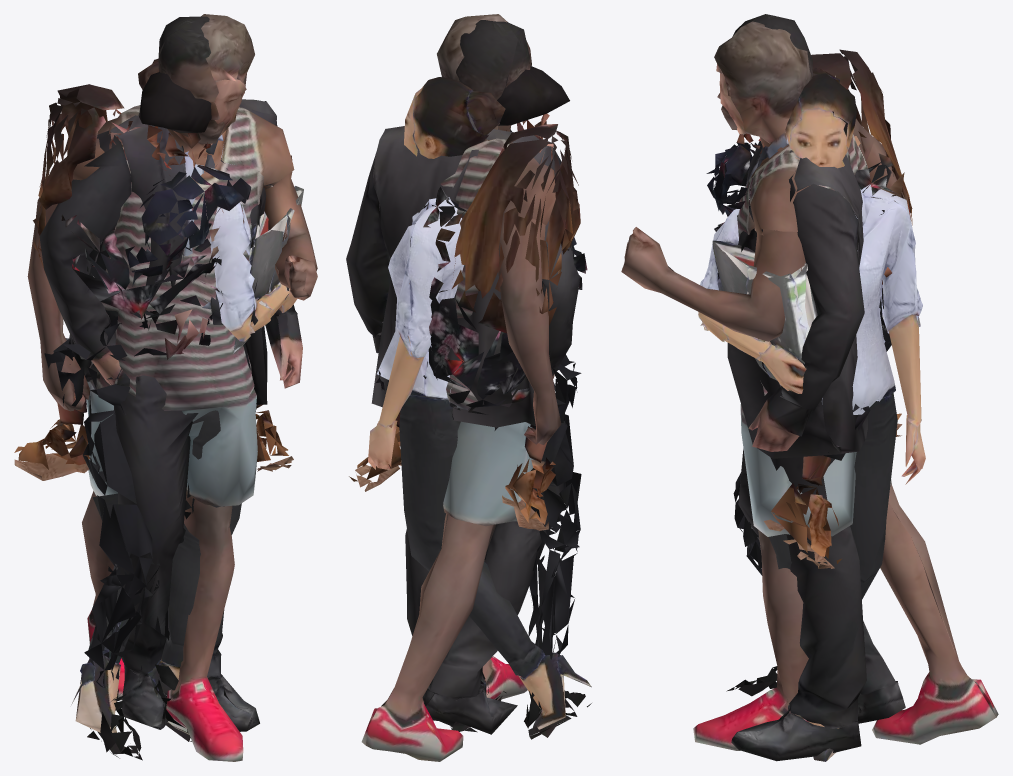
File: people_lo.glb
3 renders of one model, left to right at view 1: azimuth 30°, elevation 25°; view 2: azimuth 150°, elevation 25°; view 3: azimuth 270°, elevation 25°, orthographic. The views are drawn at different scales.
Parts seen in each view (by area): view 1: Object_2.001, rp_fabienne_percy_posed_001_200k, rp_dennis_posed_004_100k, Object_3; view 2: rp_fabienne_percy_posed_001_200k, Object_2.001, rp_dennis_posed_004_100k, Object_3; view 3: rp_dennis_posed_004_100k, Object_2.001, Object_3, rp_fabienne_percy_posed_001_200k.
Part boxes in pixels (left/top/right/bottom): Object_2.001: left=27, top=16, right=317, bottom=761; rp_fabienne_percy_posed_001_200k: left=14, top=72, right=293, bottom=760; rp_dennis_posed_004_100k: left=39, top=14, right=302, bottom=731; Object_3: left=71, top=59, right=303, bottom=732; rp_fabienne_percy_posed_001_200k: left=349, top=66, right=591, bottom=739; Object_2.001: left=361, top=20, right=561, bottom=761; rp_dennis_posed_004_100k: left=346, top=14, right=580, bottom=734; Object_3: left=368, top=77, right=591, bottom=729; rp_dennis_posed_004_100k: left=714, top=21, right=905, bottom=761; Object_2.001: left=621, top=14, right=998, bottom=750; Object_3: left=698, top=67, right=925, bottom=761; rp_fabienne_percy_posed_001_200k: left=706, top=49, right=912, bottom=696.
Size of the model in its own units: 0.639 by 1.82 by 0.8559.
4 materials, 4 textured.
